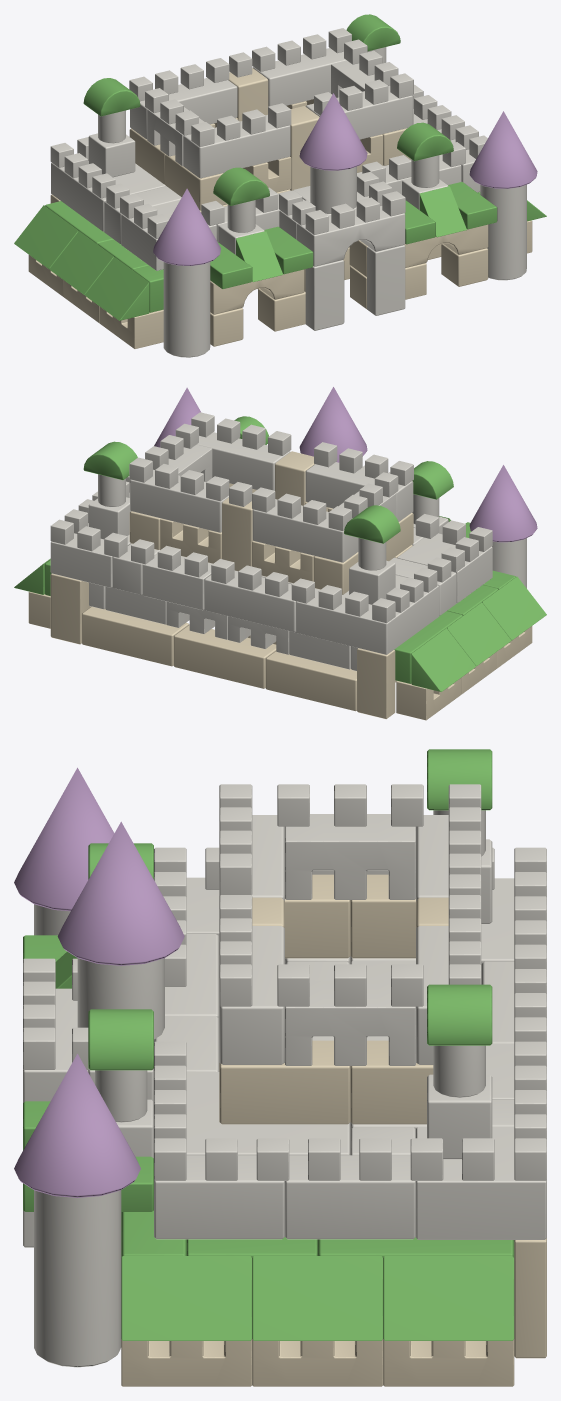
Rendered from castle F.fbx.
3 views of the same model, one above another, from view 1: azimuth 30°, elevation 25°; view 2: azimuth 150°, elevation 25°; view 3: azimuth 270°, elevation 25° (orthographic). The views are drawn at different scales.
Parts seen in each view (by area): view 1: pCube6, pCone4, pCone5, pCone3; view 2: pCube6, pCone3, pCone5, pCone4; view 3: pCube6, pCone4, pCone5, pCone3.
Part boxes in pixels (x1,y1,x2,y2): pCube6: [14, 14, 546, 357]; pCone4: [469, 111, 537, 188]; pCone5: [299, 93, 367, 170]; pCone3: [153, 188, 220, 265]; pCube6: [14, 412, 546, 720]; pCone3: [469, 465, 537, 542]; pCone5: [299, 387, 367, 462]; pCone4: [154, 387, 200, 447]; pCube6: [23, 749, 546, 1386]; pCone4: [14, 1054, 140, 1197]; pCone5: [57, 821, 184, 965]; pCone3: [14, 767, 114, 911].
Size of the model in its own units: 419 by 195 by 244.
